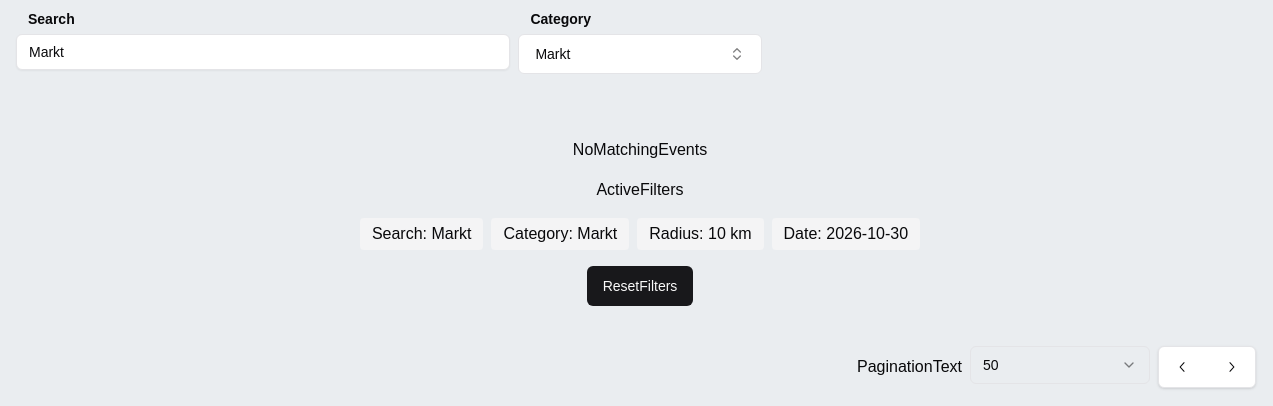
Test: event search interactions › shows active filters, clears them together and cancels pending input
Expected: the list item "Category: Markt" is shown, [492,218,629,250]
Expected: the list item "Radius: 10 km" is shown, [637,218,764,250]
Replace the text in the field labelled "Search" with "pending" at (263, 52), box [16,34,510,70]
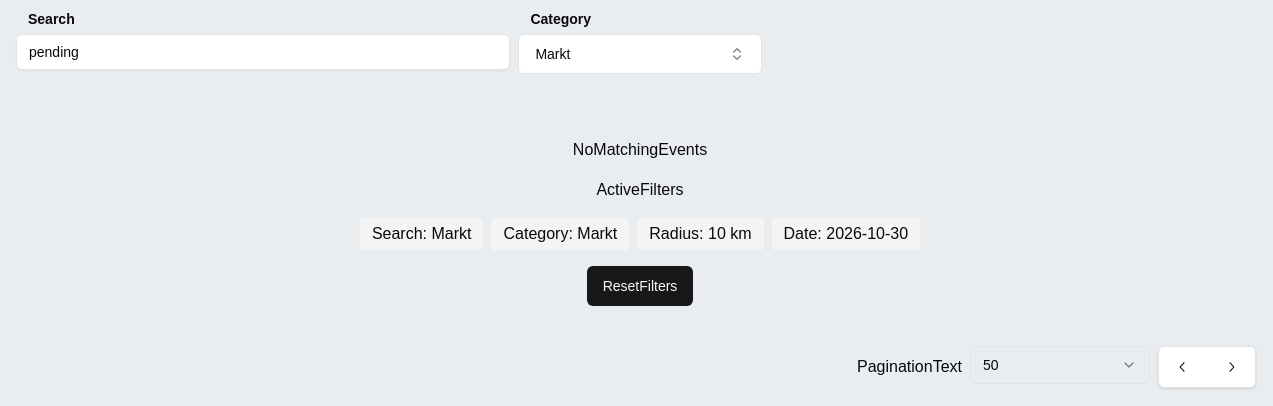
Click the button "ResetFilters" at (640, 286), box [587,266,693,306]
Wait 500 ms
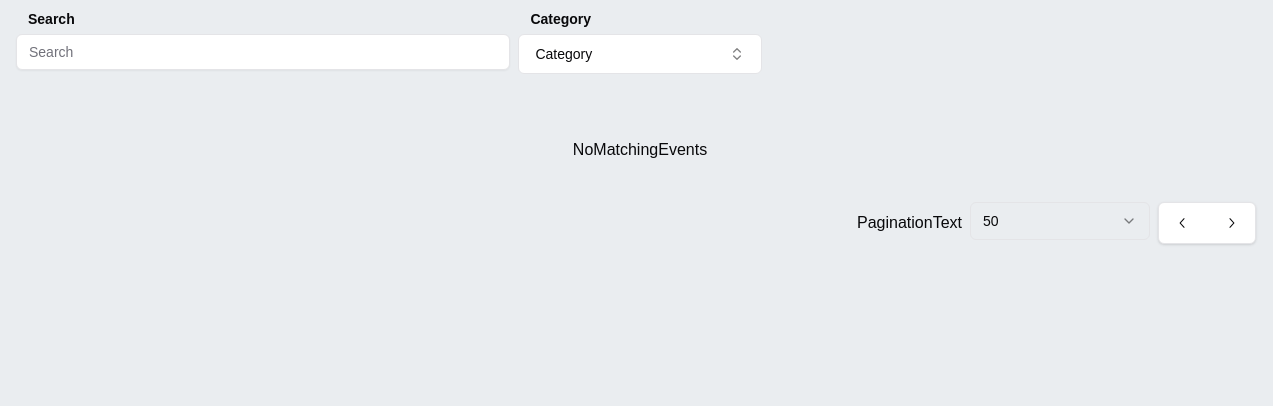
Result: the field labelled "Search" is empty at [16,34,510,70]
Result: the text "ActiveFilters" is gone
